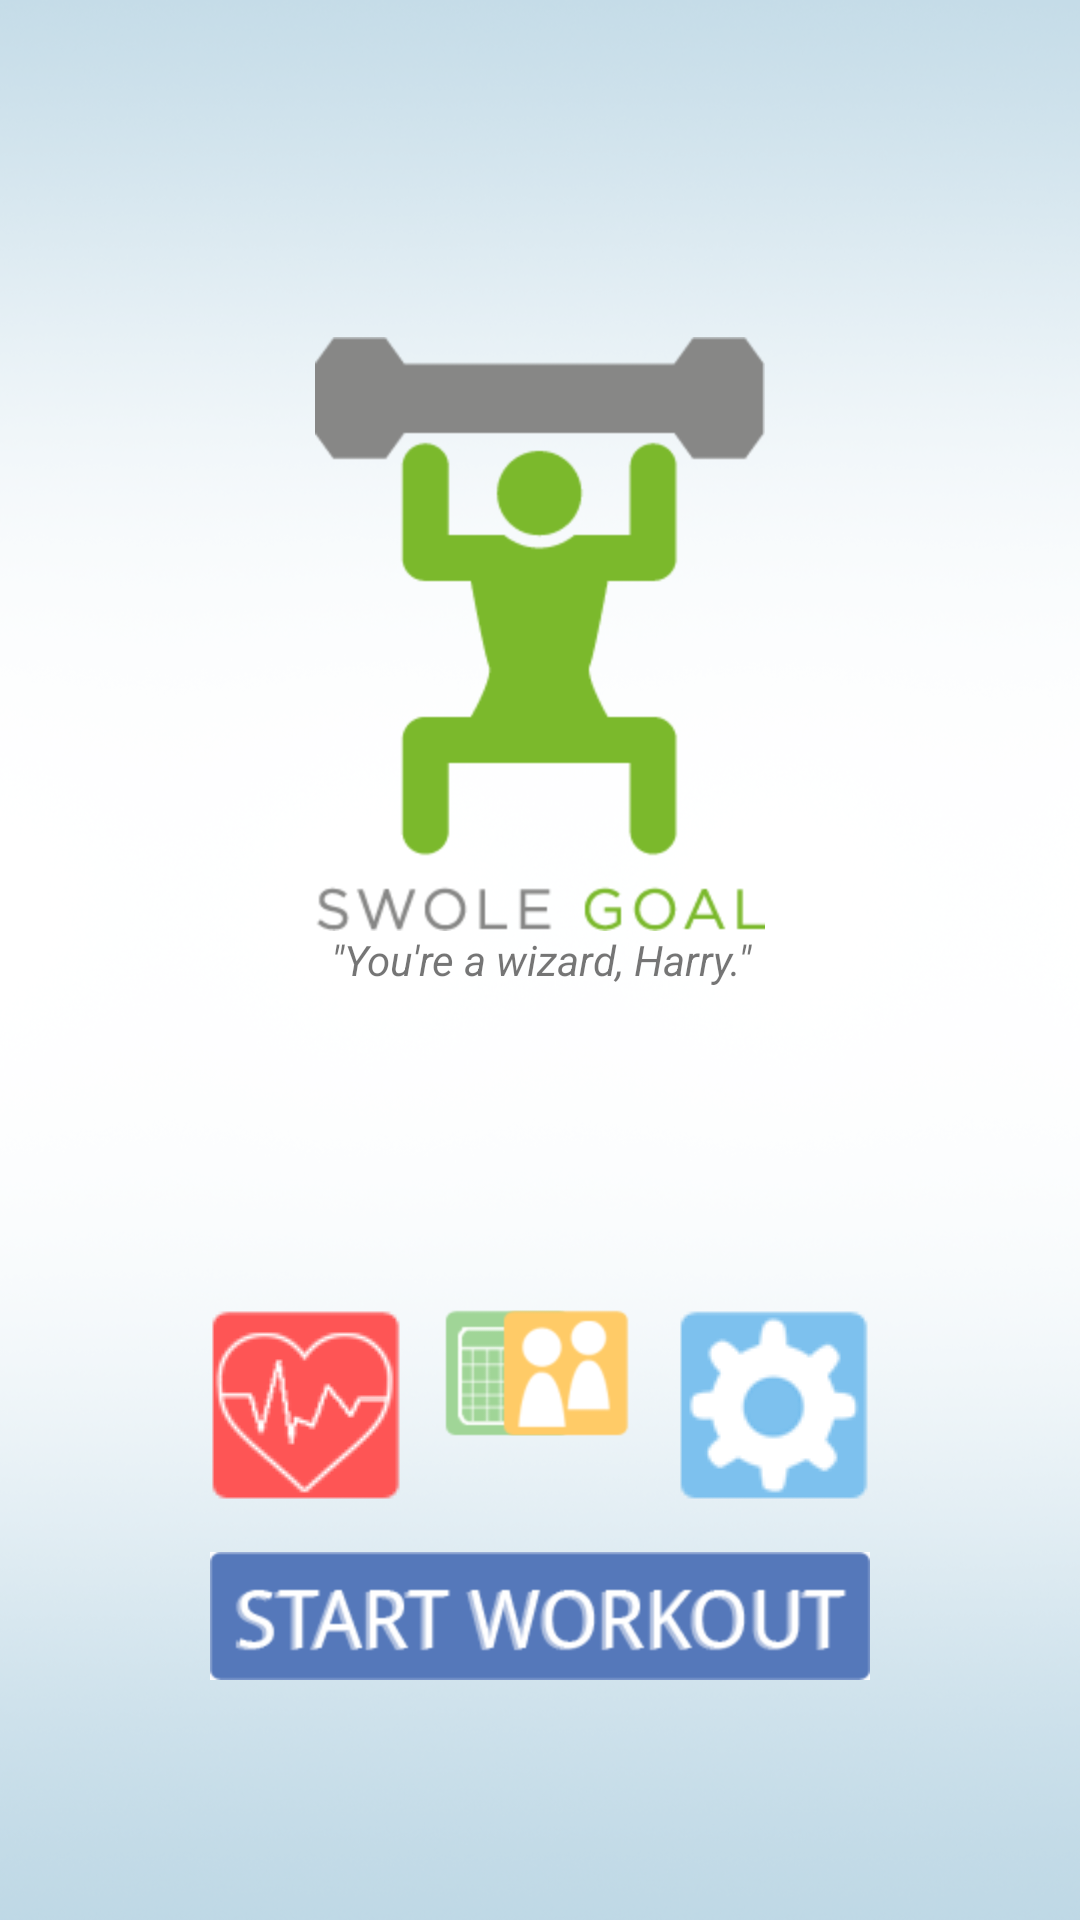

Where icons sit on this 1080*1920 app screen, as [x1,y1,x2,y2]:
heartbutton: [212,1311,400,1499]
setbutton: [680,1311,868,1499]
